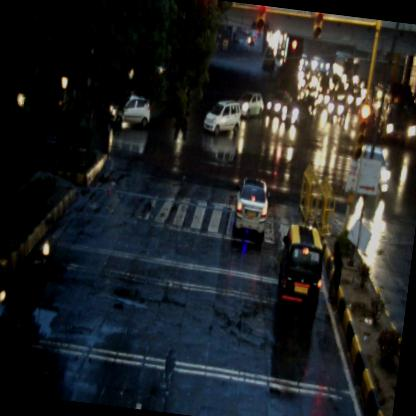bus: (367, 80, 415, 150), (330, 49, 360, 82)
car: (272, 222, 328, 326), (229, 177, 271, 242), (106, 88, 152, 131), (203, 97, 243, 138), (235, 88, 264, 122)
